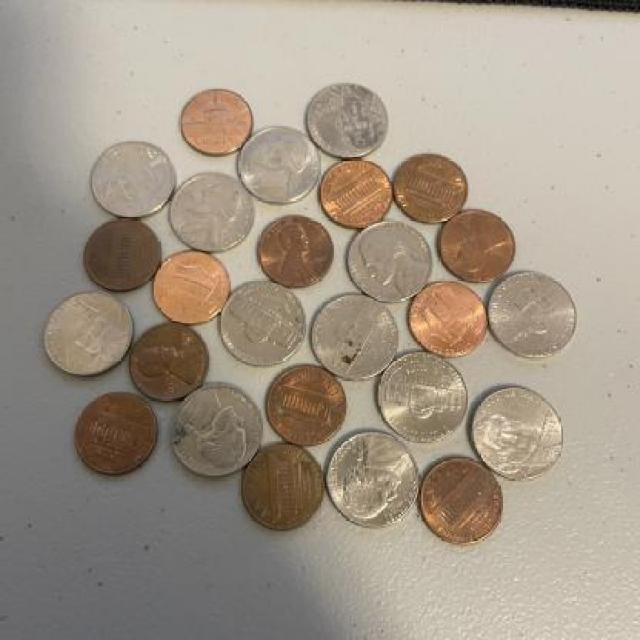Nickel: (470, 383, 564, 482), (328, 429, 422, 526), (170, 380, 262, 477), (376, 352, 469, 445), (44, 288, 136, 380), (217, 278, 306, 371), (488, 270, 580, 358), (311, 290, 400, 378), (348, 217, 437, 303), (89, 136, 177, 218), (234, 123, 323, 204), (170, 172, 256, 252), (304, 80, 390, 160)
Penny: (414, 449, 504, 546), (238, 440, 326, 531), (74, 389, 158, 483), (404, 275, 494, 357), (263, 363, 349, 448), (127, 320, 210, 403), (151, 246, 231, 326), (252, 214, 334, 291), (436, 208, 518, 283), (176, 86, 256, 159), (317, 157, 394, 232), (85, 218, 163, 292), (392, 150, 470, 224)
